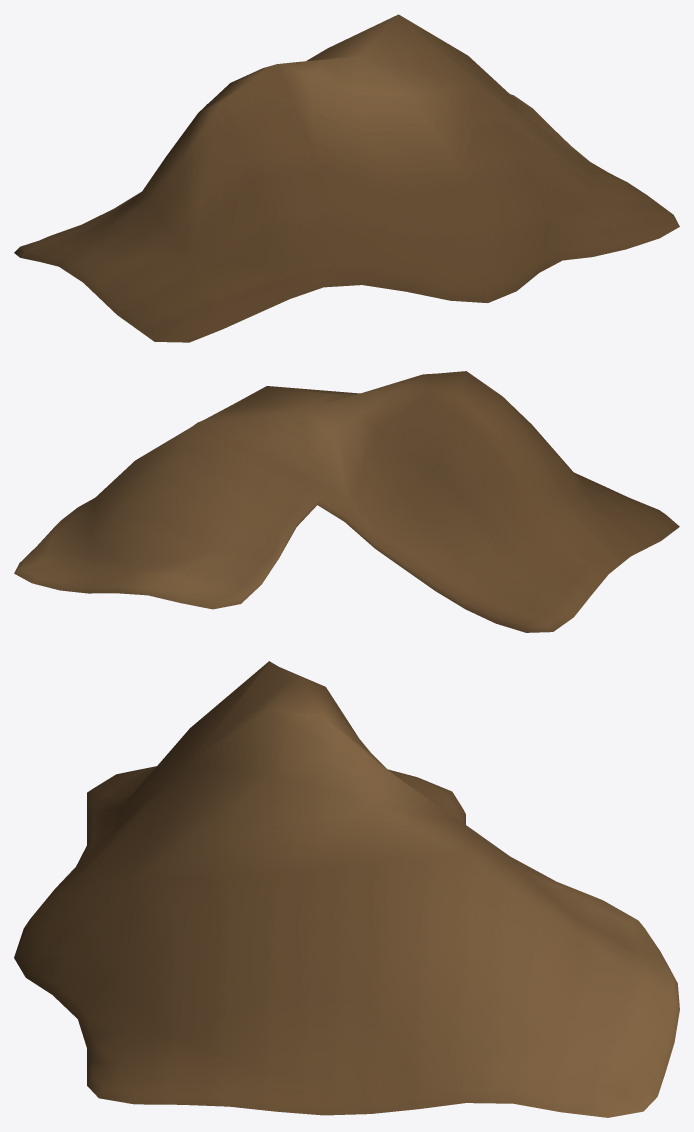
The model's file is DirtPile.fbx.
The picture shows the model from 3 angles, top to bottom: view 1: azimuth 30°, elevation 25°; view 2: azimuth 150°, elevation 25°; view 3: azimuth 270°, elevation 25°; orthographic projection. The views are drawn at different scales.
Visible parts, largest first — view 1: DirtPile1; view 2: DirtPile1; view 3: DirtPile1.
Part boxes in pixels (x1,y1,x2,y2): DirtPile1: (14, 14, 679, 342); DirtPile1: (14, 371, 679, 632); DirtPile1: (14, 661, 679, 1117).
Size of the model in its own units: 4.18 by 1.48 by 3.67.
1 material, 1 textured.
